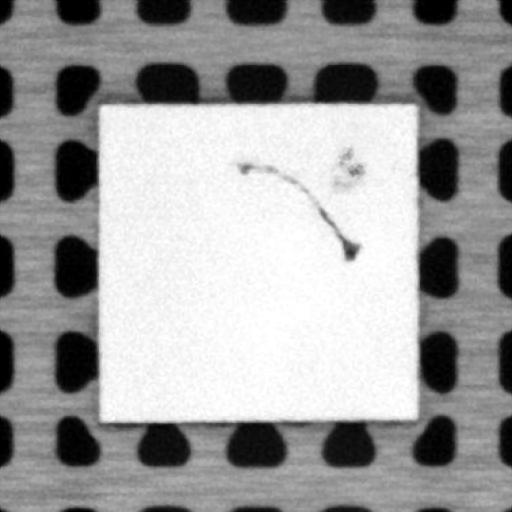DIE_INK: (236, 157, 360, 262), (325, 146, 362, 190)
